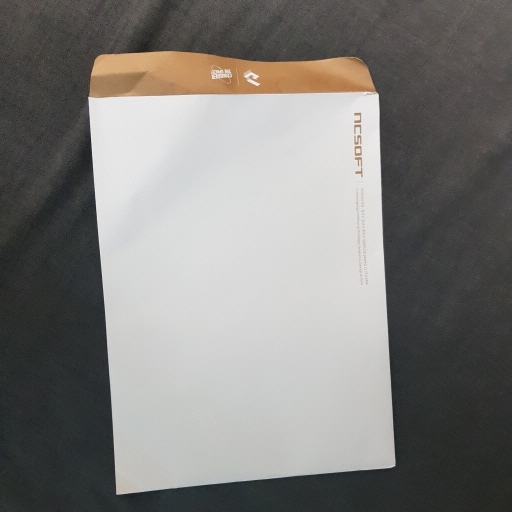Paper_2: (82, 49, 406, 497)
